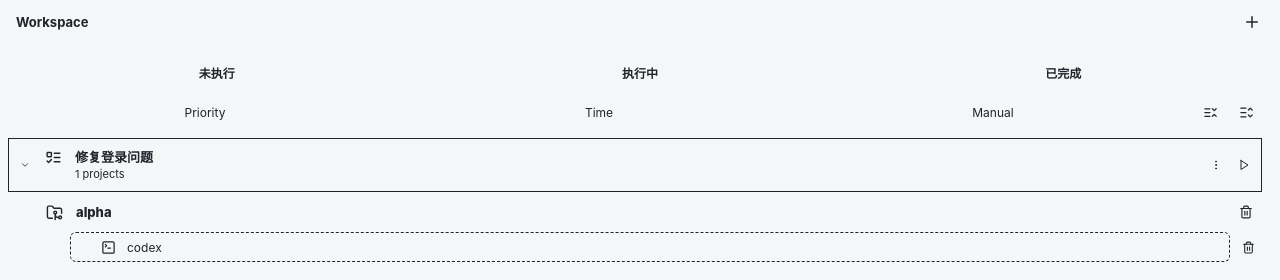
Test: ProjectSidebar › uses the top toolbar for completed bulk deletion without open TODO controls
The width and height of the screenshot is (1280, 280).
Expected: the element with test id "todo-tree-toolbar" is shown, [8,96,1262,130]
Expected: the button with test id "sort-active-todos-priority" is shown, [8,96,402,128]
Click the button with test id "todo-view-in-progress" at (640, 72), box [431,56,849,88]
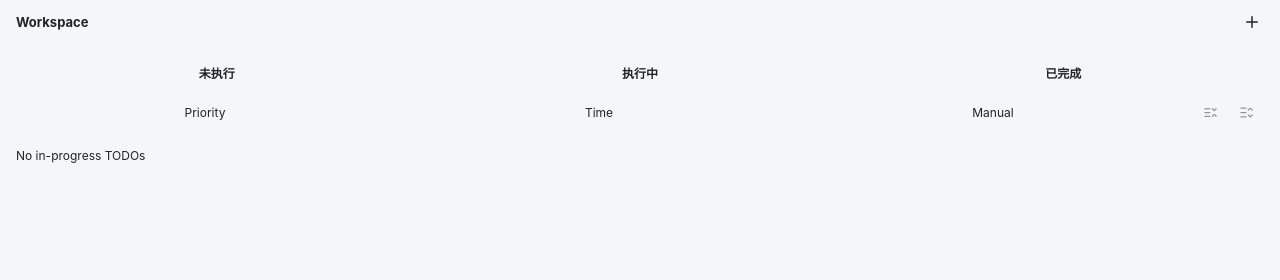
Expected: the button with test id "sort-active-todos-priority" is shown, [8,96,402,128]
Expected: the button with test id "collapse-all-todos" is shown, [1194,96,1226,128]
Click the button with test id "todo-view-completed" at (1063, 72), box [855,56,1272,88]
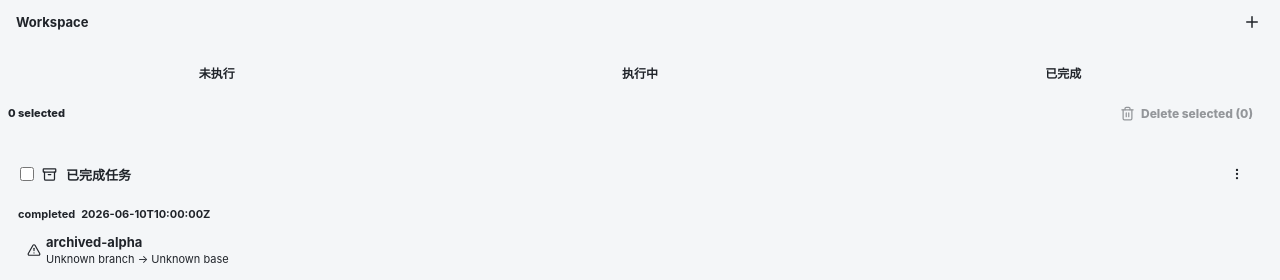
Expected: the button with test id "bulk-delete-completed-todos" is shown, [1111,97,1262,129]
